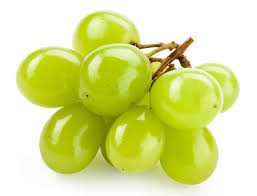Green grapes: (14, 8, 235, 185)
